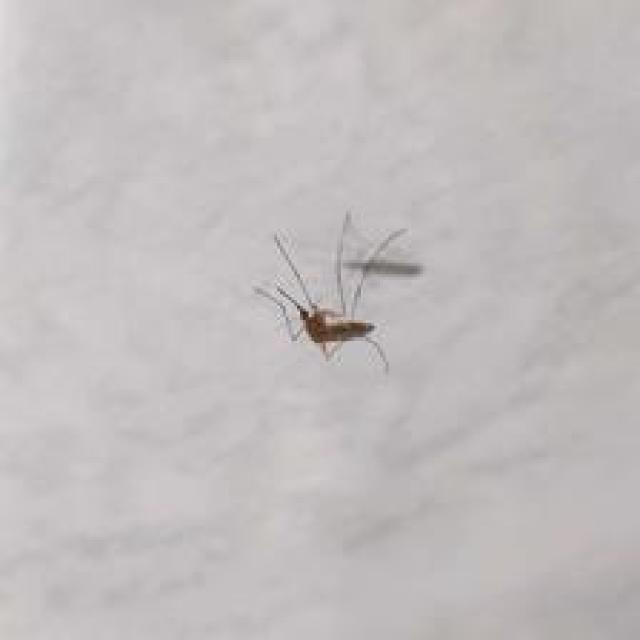Culex: (251, 209, 423, 374)
